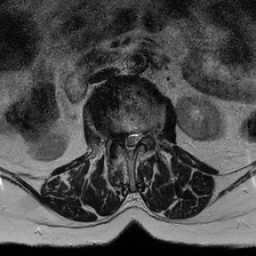CCS_stenosis: (126, 124, 133, 162)
LFS_severe_stenosis: (140, 123, 148, 145)
LLS_normal: (133, 124, 140, 150)
RFS_severe_stenosis: (110, 121, 118, 146)
RLS_severe_stenosis: (118, 123, 126, 149)
